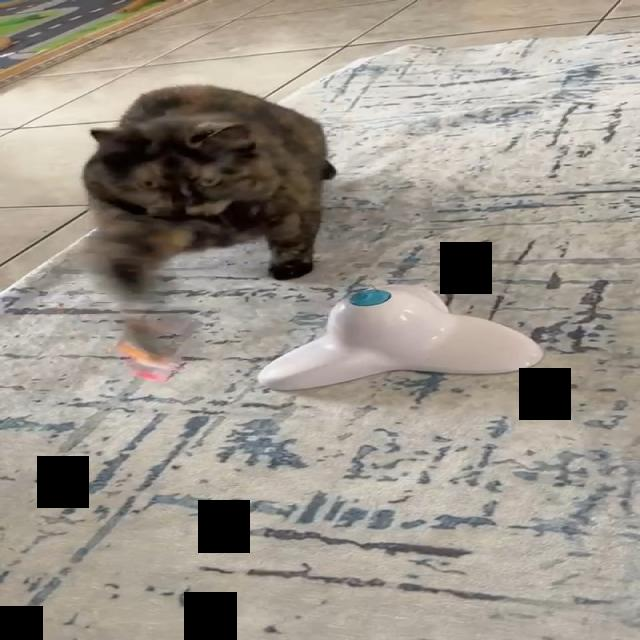authorized: (80, 83, 336, 357)
